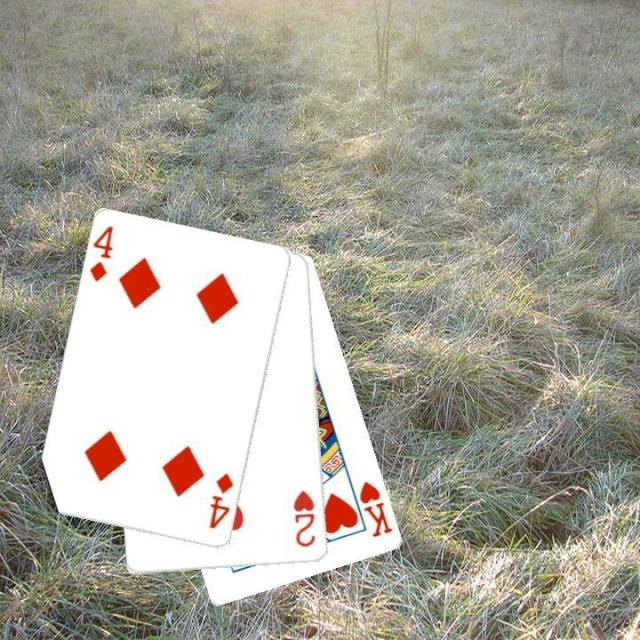2H: (290, 486, 318, 550)
4D: (206, 469, 237, 532), (86, 222, 116, 284)
KH: (356, 478, 394, 540)
